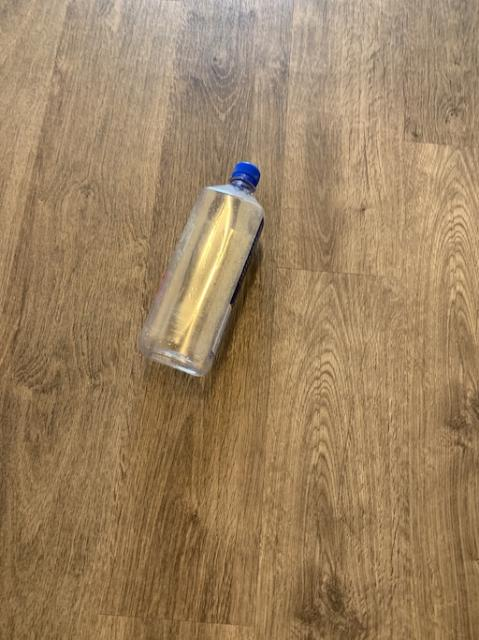plastic: (138, 161, 262, 374)
